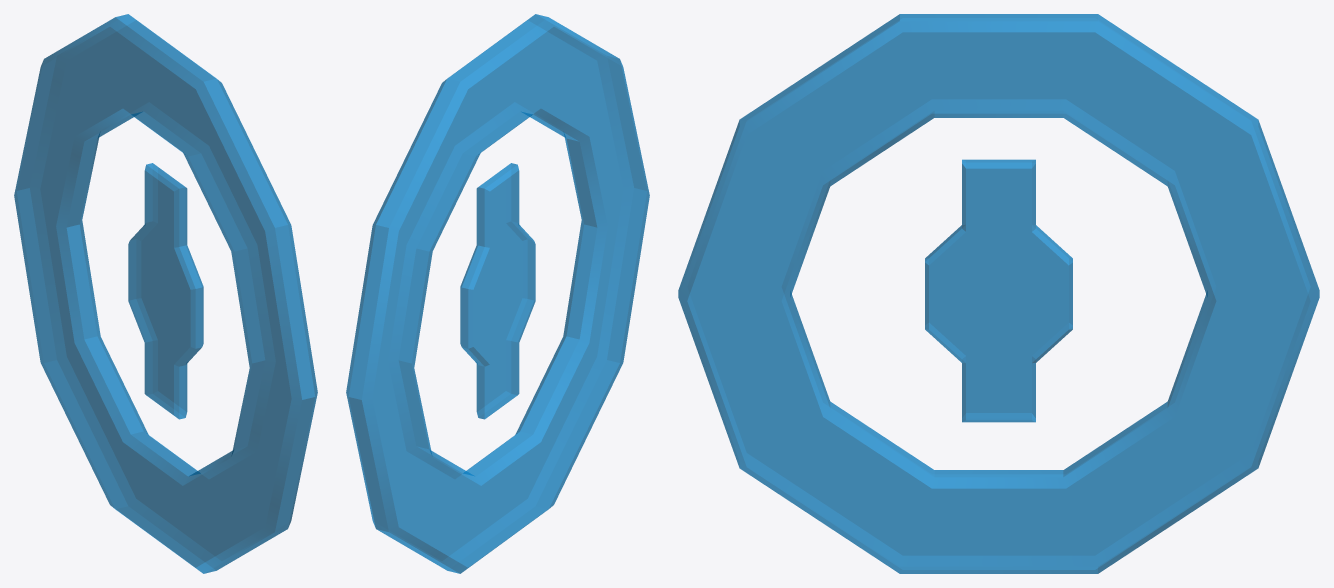
The model's file is ApexIcon.fbx.
3 renders of one model, left to right at view 1: azimuth 30°, elevation 25°; view 2: azimuth 150°, elevation 25°; view 3: azimuth 270°, elevation 25°, orthographic. The views are drawn at different scales.
Visible parts, largest first — view 1: ApexIcon; view 2: ApexIcon; view 3: ApexIcon.
Part boxes in pixels (bbox=[...]): ApexIcon: bbox=[14, 14, 317, 573]; ApexIcon: bbox=[346, 14, 649, 573]; ApexIcon: bbox=[678, 14, 1319, 573].
Size of the model in its own units: 1 by 17.94 by 18.87.
